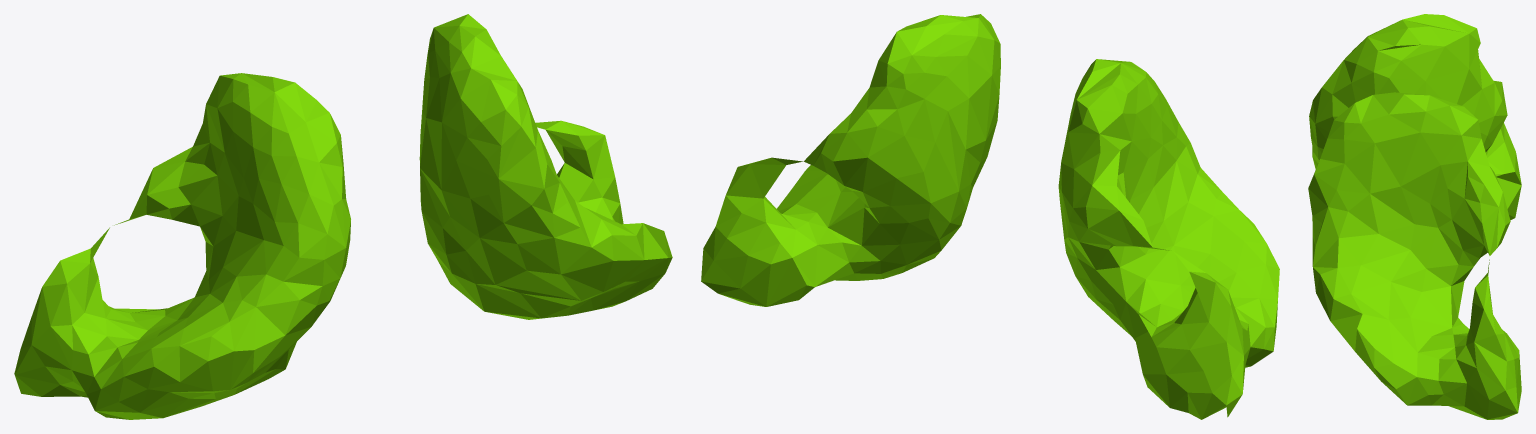
Rendered from 146-AcbSh-accumbens nucleus, shell-('0.5725', '1.0000', '0.0000').obj.
3 renders of one model, left to right at view 1: azimuth 30°, elevation 25°; view 2: azimuth 150°, elevation 25°; view 3: azimuth 270°, elevation 25°, orthographic. The views are drawn at different scales.
Bounding box in the file's own units: 84.6 × 42.62 × 32.02.
